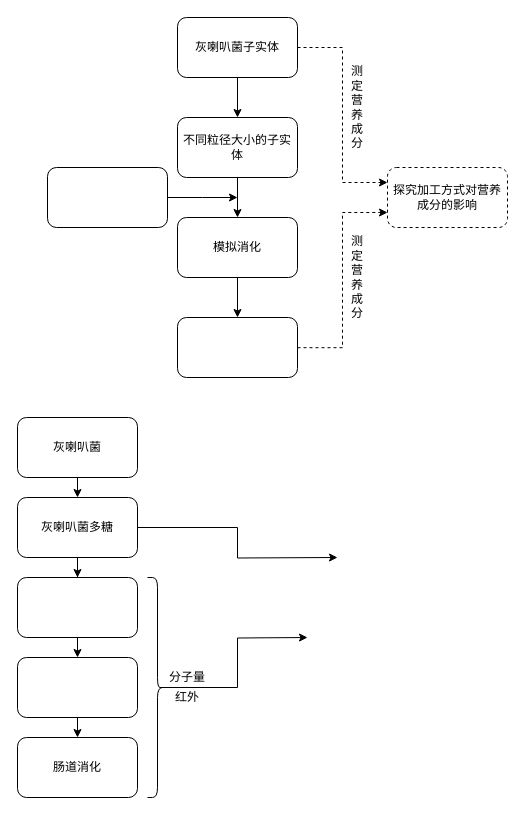
This 525x815 diagram has some shape labels left out. The centre of each missing label's shape, as x and y in pixels:
"口腔消化" belongs at point (77, 607).
"消化产物" belongs at point (237, 347).
"清蒸，油炸，水煮和微波" belongs at point (107, 197).
"胃消化" belongs at point (77, 687).
